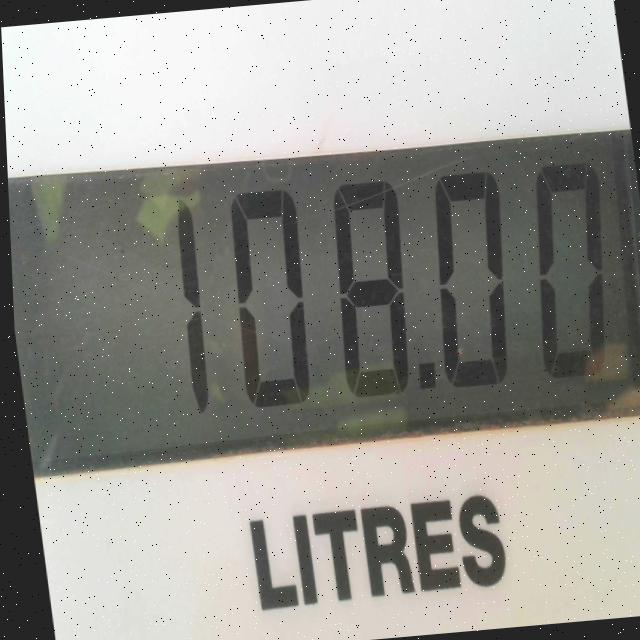.: (407, 352, 447, 408)
0: (206, 172, 331, 419), (511, 152, 626, 396), (410, 158, 522, 383)
1: (135, 182, 242, 424)
8: (303, 152, 421, 408)
